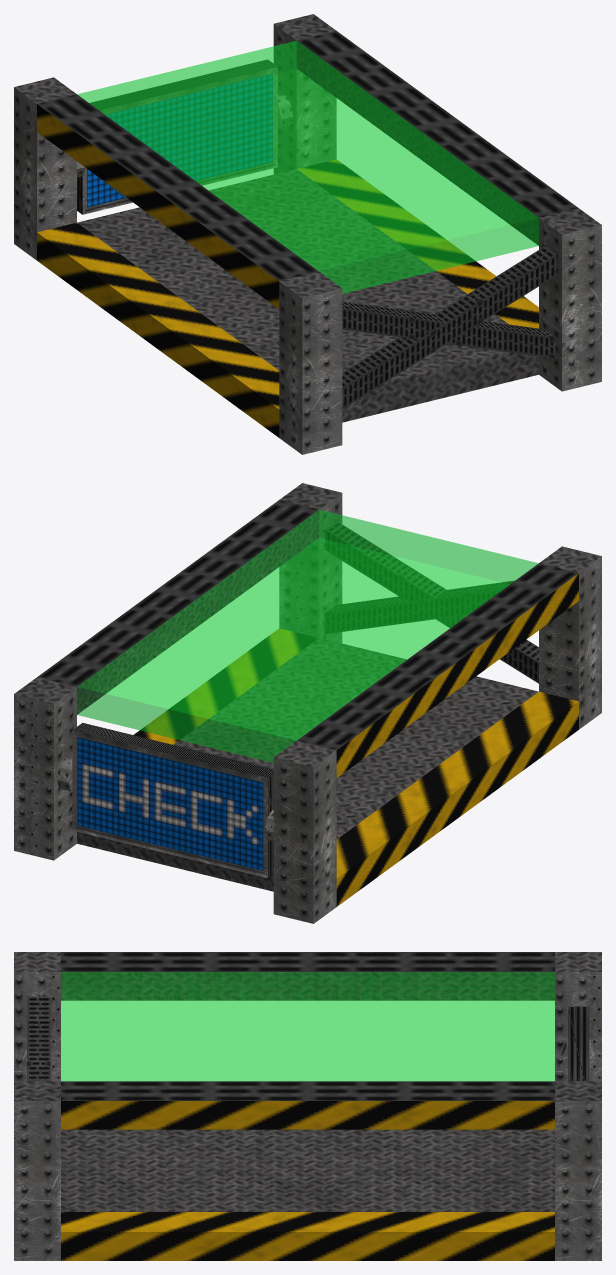
The model's file is Checkpoint.fbx.
The picture shows the model from 3 angles, top to bottom: view 1: azimuth 30°, elevation 25°; view 2: azimuth 150°, elevation 25°; view 3: azimuth 270°, elevation 25°; orthographic projection.
Parts seen in each view (by area): view 1: Checkpoint, Plateform, Screen_Reverse_Magn; view 2: Checkpoint, Plateform, Screen_Reverse_Magn; view 3: Checkpoint, Plateform, Screen_Reverse_Magn.
Boxes of the visible parts, x1,y1,x2,y2 form: Checkpoint: (14, 14, 601, 454); Plateform: (77, 41, 538, 293); Screen_Reverse_Magn: (77, 59, 277, 214); Checkpoint: (14, 483, 601, 923); Plateform: (77, 509, 538, 762); Screen_Reverse_Magn: (72, 723, 273, 877); Checkpoint: (14, 952, 601, 1260); Plateform: (61, 972, 554, 1081); Screen_Reverse_Magn: (568, 1006, 589, 1081).
Bounding box in the file's own units: 3 × 1.5 × 5.
